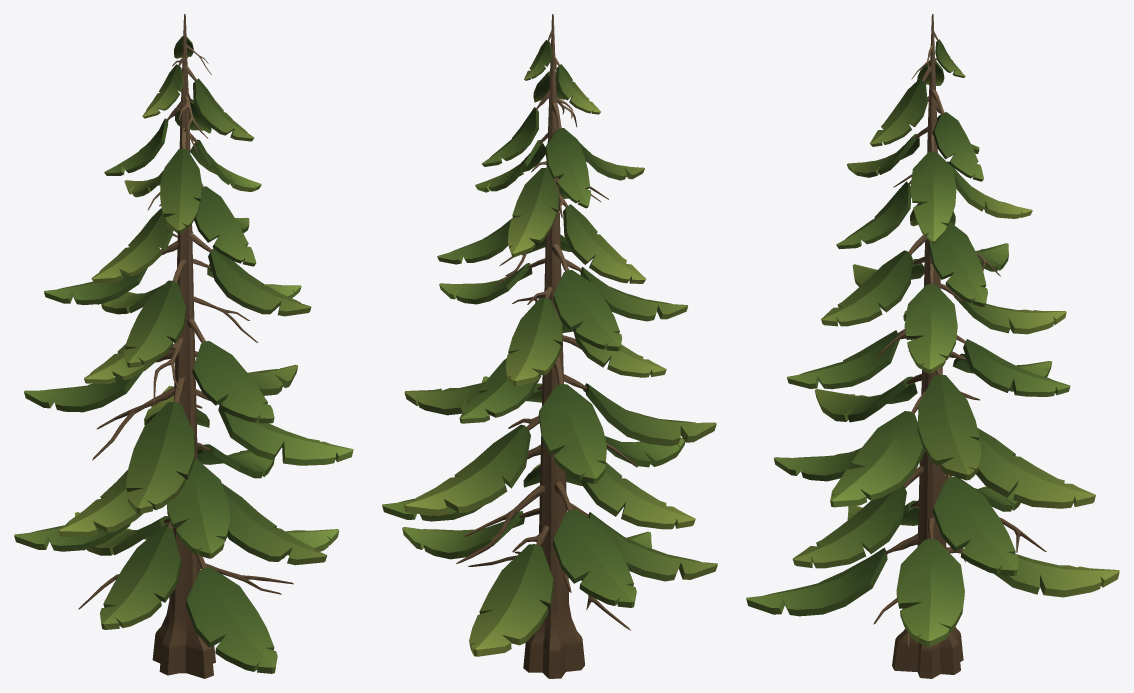
File: Tree_02.fbx
The picture shows the model from 3 angles, left to right: view 1: azimuth 30°, elevation 25°; view 2: azimuth 150°, elevation 25°; view 3: azimuth 270°, elevation 25°; orthographic projection.
Parts seen in each view (by area): view 1: Tree_02_LOD0; view 2: Tree_02_LOD0; view 3: Tree_02_LOD0.
Part boxes in pixels (left/top/right/bottom): Tree_02_LOD0: left=14, top=14, right=353, bottom=678; Tree_02_LOD0: left=382, top=14, right=717, bottom=678; Tree_02_LOD0: left=746, top=14, right=1119, bottom=678.
Size of what is drawn, in the model's own units: 3.49 by 7.58 by 3.94.
